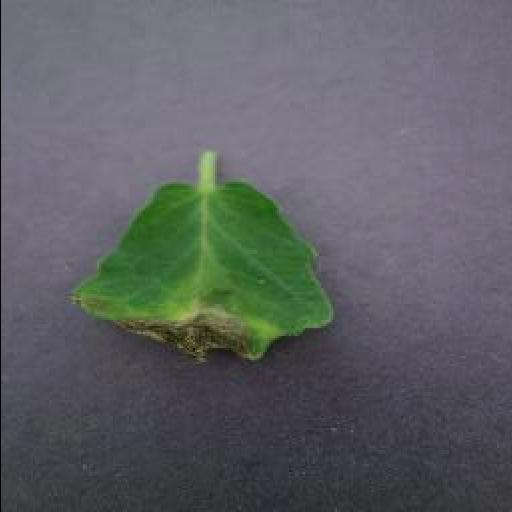disease_tomato: (66, 186, 332, 366)
